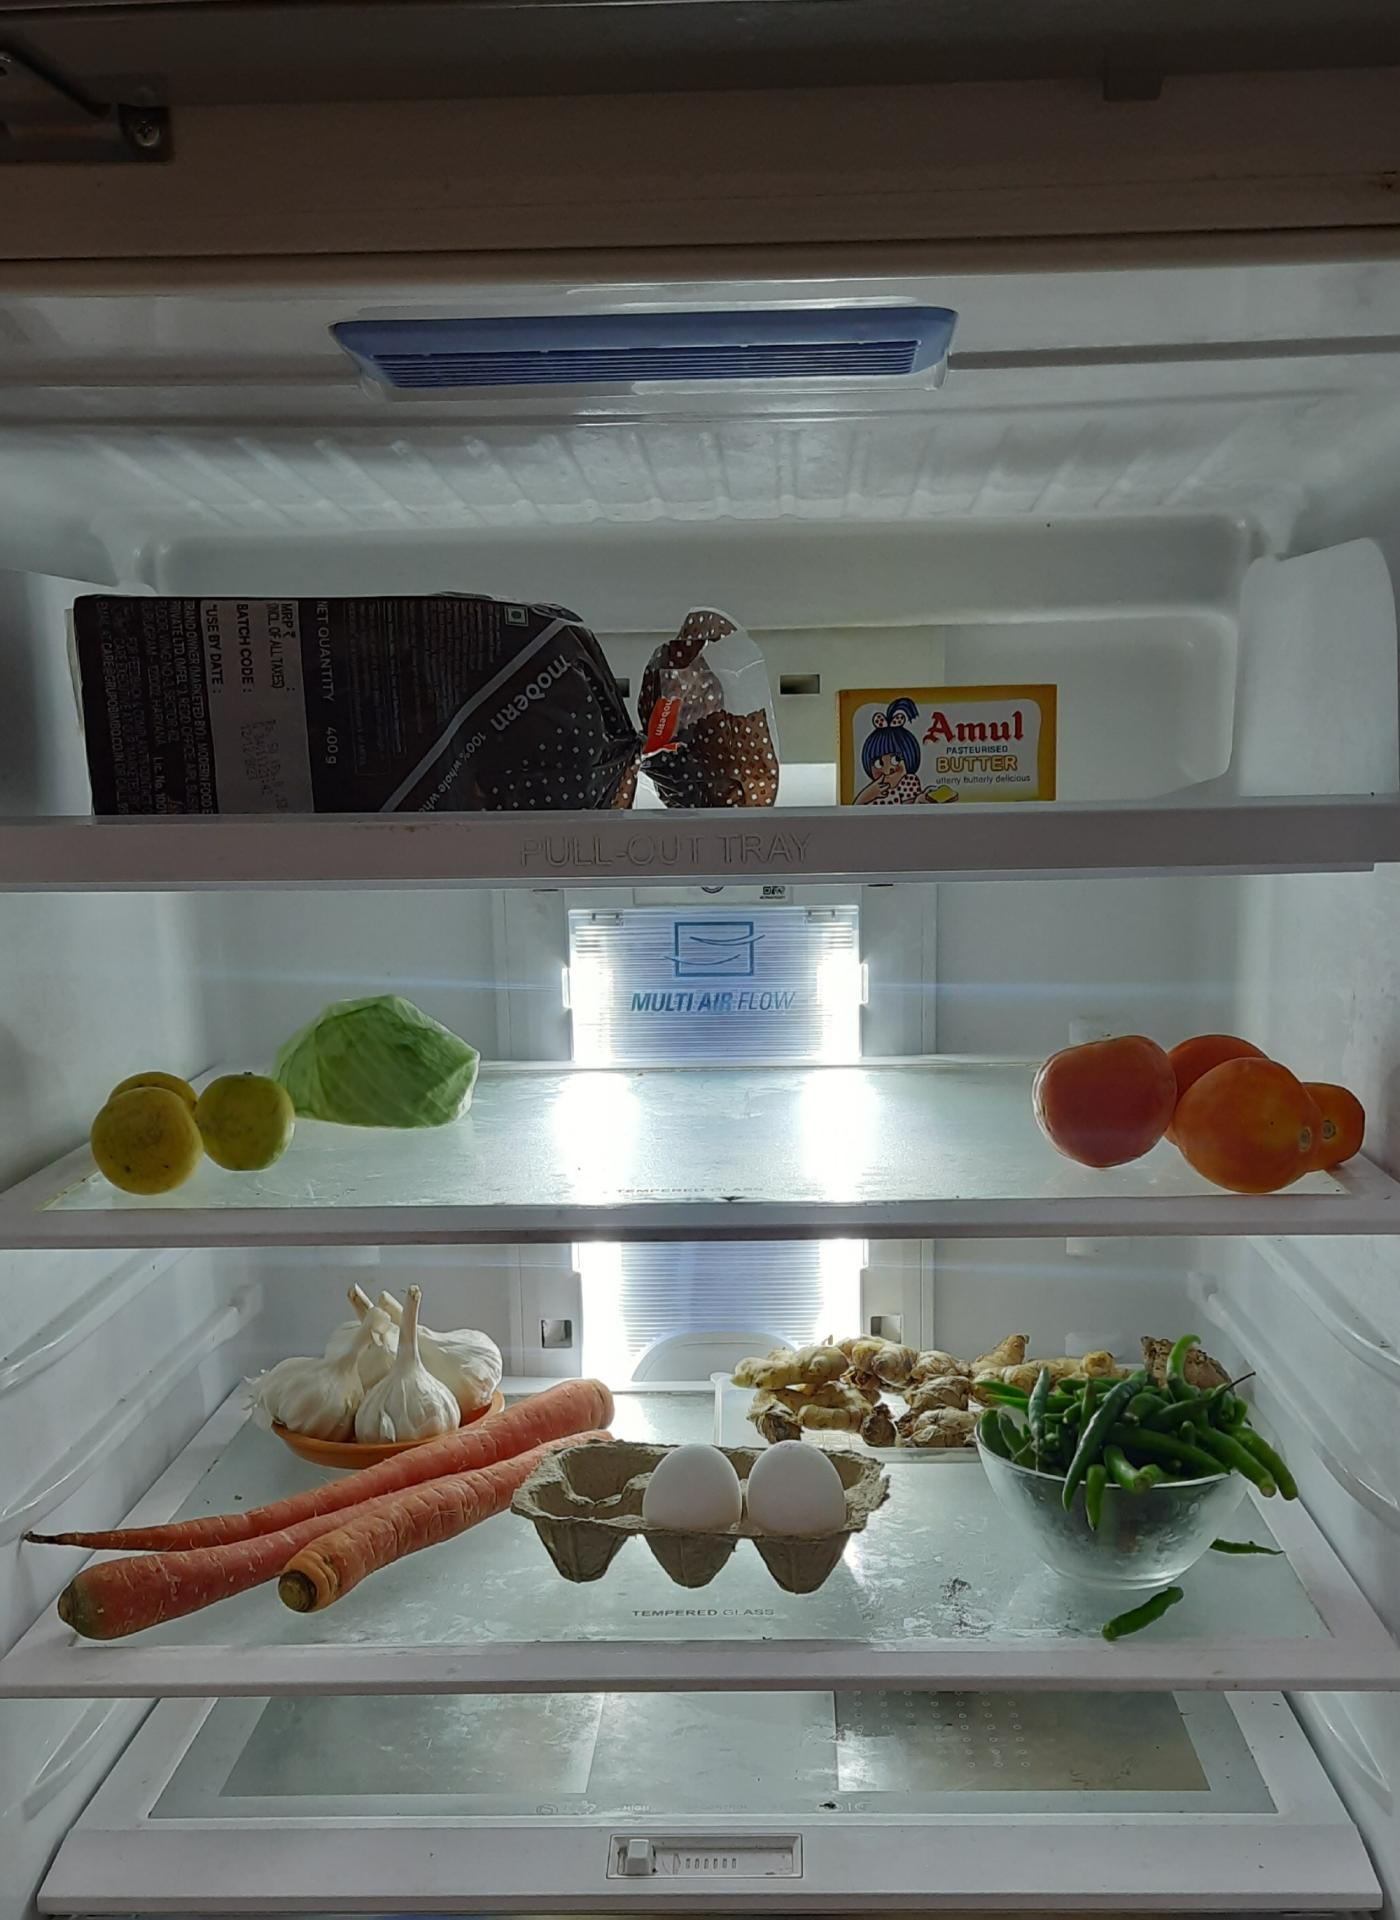bread: (75, 583, 793, 803)
butter: (833, 675, 1060, 802)
cabbage: (270, 997, 486, 1133)
carrots: (51, 1355, 611, 1631)
chillies: (984, 1373, 1291, 1574)
egg: (649, 1444, 847, 1538)
garlic: (267, 1285, 499, 1450)
ginger: (740, 1334, 1000, 1452)
lemon: (95, 1064, 304, 1191)
tomato: (1039, 1027, 1376, 1181)
